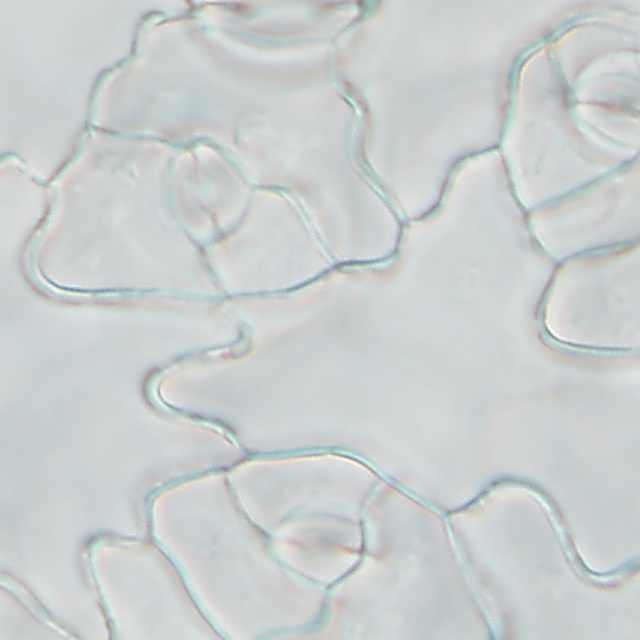center: (293, 531, 350, 560), (191, 164, 221, 215), (242, 39, 327, 53), (282, 533, 344, 550)
stomata-huw1: (228, 458, 385, 595), (189, 1, 380, 91), (245, 491, 381, 592), (163, 132, 255, 244), (566, 50, 639, 162)
